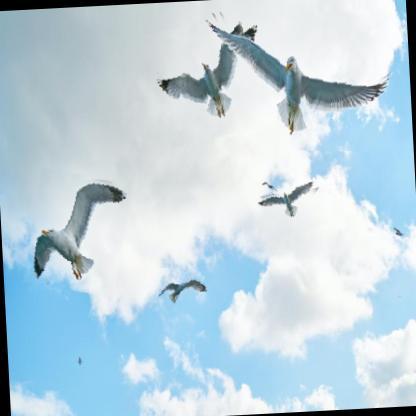bird: (210, 6, 393, 157), (147, 14, 262, 145), (23, 167, 132, 297), (250, 183, 326, 239), (152, 268, 212, 318)
